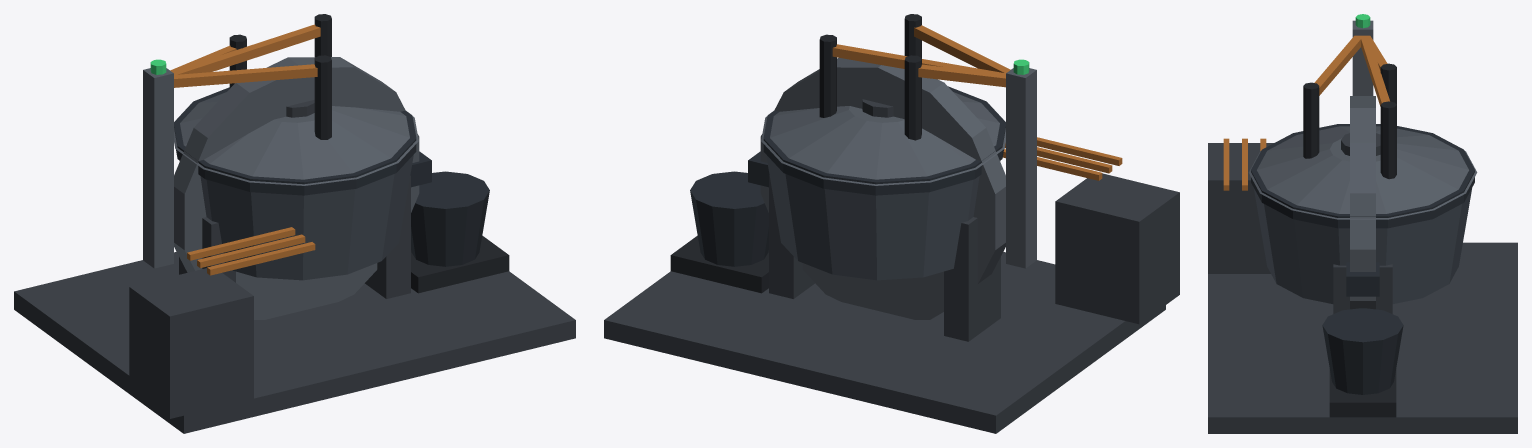
The model's file is eaf_hero.glb.
The picture shows the model from 3 angles, left to right: view 1: azimuth 30°, elevation 25°; view 2: azimuth 150°, elevation 25°; view 3: azimuth 270°, elevation 25°; orthographic projection. The views are drawn at different scales.
Visible parts, largest first — view 1: base_pad, eaf_static_steel_dark, trunnion_ring, vessel_shell, roof, ladle, electrode_mast, refractory_rim, eaf_static_copper_bus, ladle_car, electrode_arm_a, electrode_arm_c (+3 smaller); view 2: base_pad, eaf_static_steel_dark, vessel_shell, trunnion_ring, roof, ladle, electrode_mast, refractory_rim, ladle_car, eaf_static_copper_bus, electrode_b, electrode_c (+5 smaller); view 3: base_pad, vessel_shell, roof, eaf_static_steel_dark, ladle, trunnion_ring, refractory_rim, ladle_car, electrode_c, electrode_a, electrode_mast, tap_spout (+5 smaller).
Part boxes in pixels (x1,y1,x2,y2): base_pad: (14,252,575,433); eaf_static_steel_dark: (129,176,410,418); trunnion_ring: (174,57,419,319); vessel_shell: (200,154,413,280); roof: (174,92,418,185); ladle: (411,171,489,266); electrode_mast: (143,68,173,268); refractory_rim: (174,87,416,195); eaf_static_copper_bus: (187,227,315,275); ladle_car: (411,235,509,293); electrode_arm_a: (174,64,317,87); electrode_arm_c: (173,24,320,75); base_pad: (604,252,1165,433); eaf_static_steel_dark: (769,173,1179,341); vessel_shell: (766,154,979,280); trunnion_ring: (760,58,1005,319); roof: (761,92,1005,185); ladle: (690,171,768,266); electrode_mast: (1006,68,1036,268); refractory_rim: (763,86,1005,195); ladle_car: (670,235,768,293); eaf_static_copper_bus: (1002,137,1122,180); electrode_b: (904,55,921,140); electrode_c: (819,34,836,117); base_pad: (1208,242,1517,433); vessel_shell: (1254,188,1471,303); roof: (1248,126,1477,219); eaf_static_steel_dark: (1208,143,1392,313); ladle: (1322,308,1403,394); trunnion_ring: (1350,96,1375,309); refractory_rim: (1251,124,1474,228); ladle_car: (1329,369,1396,417); electrode_c: (1380,101,1396,179); electrode_a: (1303,82,1319,158); electrode_mast: (1352,20,1373,95); tap_spout: (1346,262,1379,296).
Bounding box in the file's own units: 5.8 × 4.02 × 4.2.
